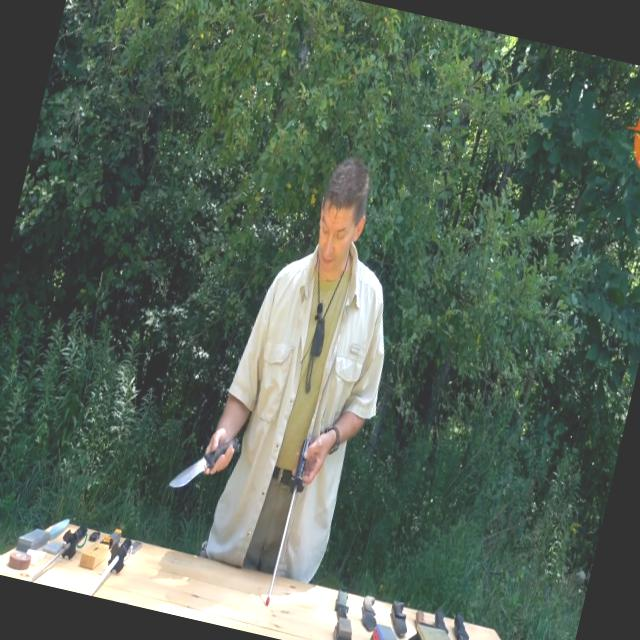knife: (164, 419, 238, 499)
